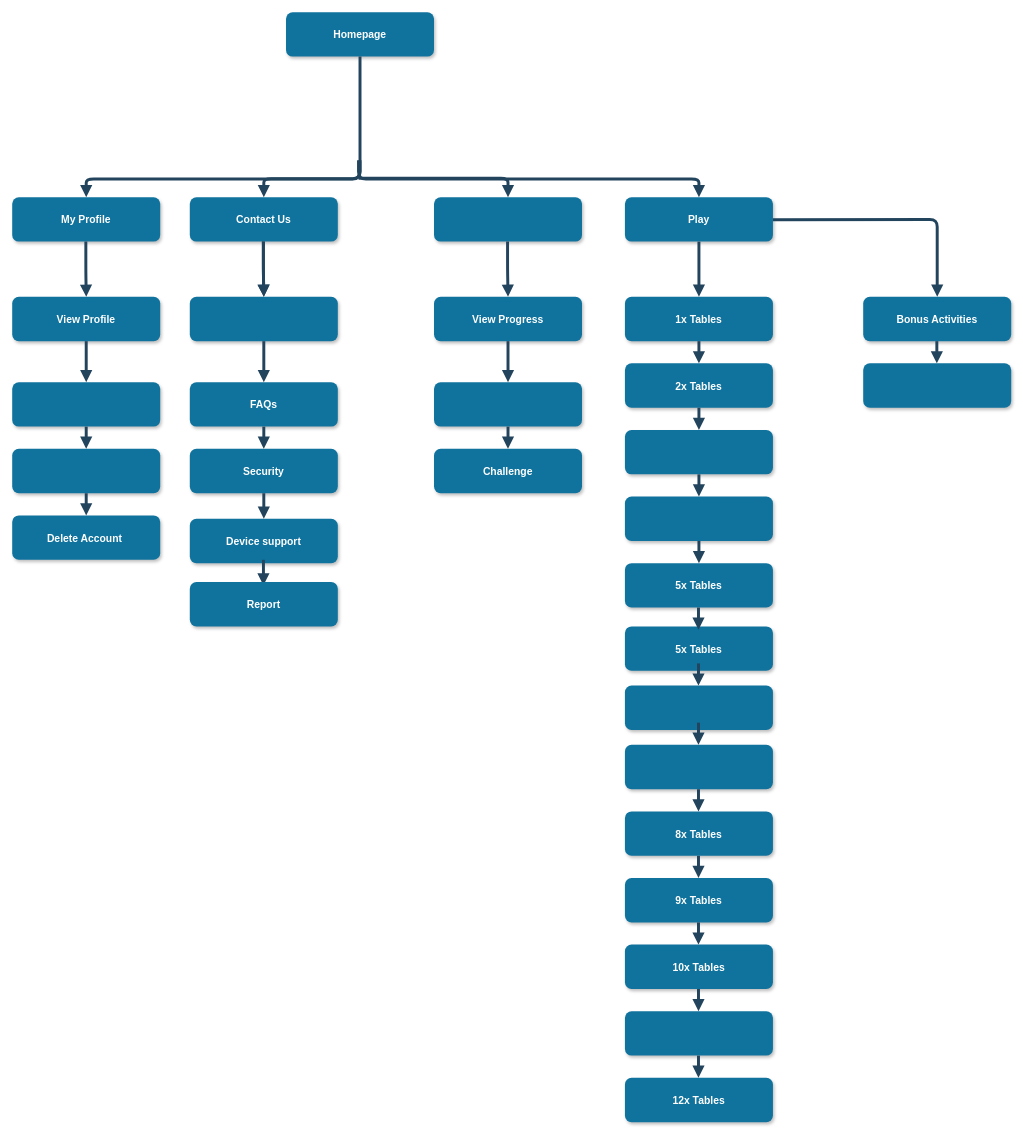
Image size: 1023x1134. Some labels were removed from this diagram. The shapes that lost their labels are listed below. From the top down, each one's centre as x and y in pixels, then its label:
At point 508,220: "Record".
At point 264,319: "The company".
At point 86,405: "Edit Profile".
At point 508,405: "Set Objectives".
At point 937,386: "Chat".
At point 86,471: "Select Avatar".
At point 699,453: "3x Tables".
At point 699,519: "4x Tables".
At point 699,708: "6x Tables".
At point 699,767: "7x Tables".
At point 699,1034: "11x Tables".
